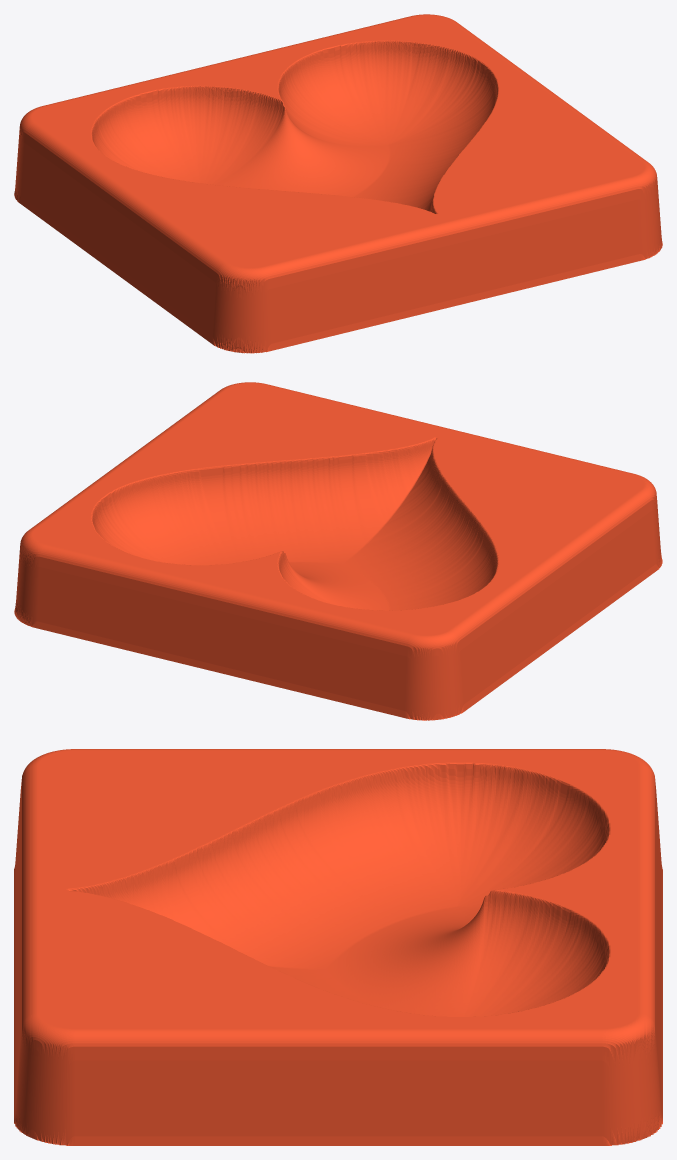
File: mold.glb
3 views of the same model, one above another, from view 1: azimuth 30°, elevation 25°; view 2: azimuth 150°, elevation 25°; view 3: azimuth 270°, elevation 25° (orthographic). The views are drawn at different scales.
Visible parts, largest first — view 1: geometry_0; view 2: geometry_0; view 3: geometry_0.
Part boxes in pixels (box(x1,y1,x2,y2)): geometry_0: box(14, 14, 662, 353); geometry_0: box(14, 382, 662, 720); geometry_0: box(14, 749, 662, 1145).
Size of the model in its own units: 0.105 by 0.0175 by 0.0964.
